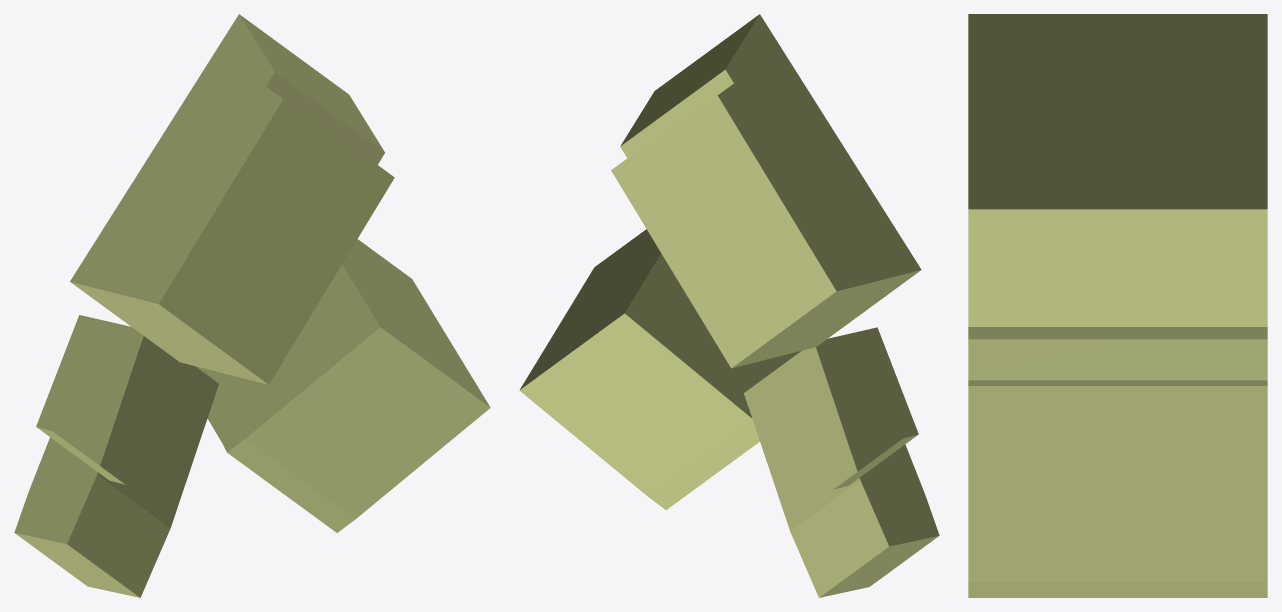
3 renders of one model, left to right at view 1: azimuth 30°, elevation 25°; view 2: azimuth 150°, elevation 25°; view 3: azimuth 270°, elevation 25°, orthographic. The views are drawn at different scales.
Visible parts, largest first — view 1: 0_1_2_0_3_3_0_2_3_2; view 2: 0_1_2_0_3_3_0_2_3_2; view 3: 0_1_2_0_3_3_0_2_3_2.
Boxes of the visible parts, box(x1,y1,x2,y2) form: 0_1_2_0_3_3_0_2_3_2: box(14, 14, 490, 597); 0_1_2_0_3_3_0_2_3_2: box(519, 14, 939, 597); 0_1_2_0_3_3_0_2_3_2: box(968, 14, 1267, 597).
Bounding box in the file's own units: 17.27 × 22 × 9.
